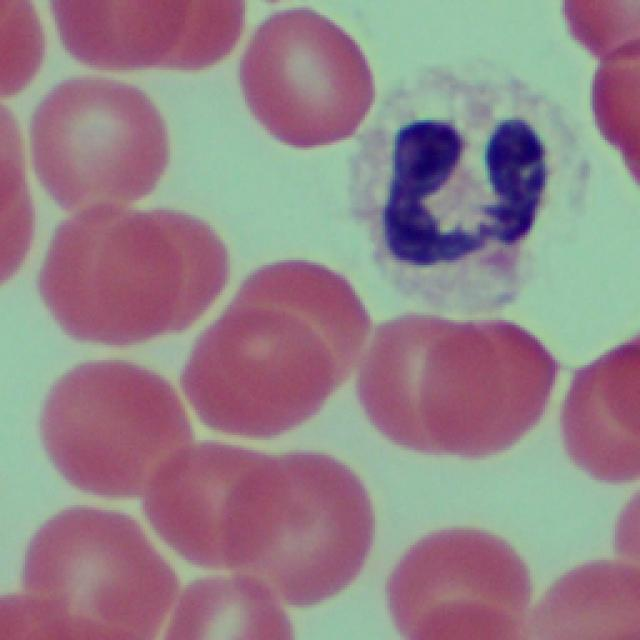RBC: (223, 452, 377, 607), (22, 507, 179, 640), (38, 359, 192, 494), (182, 307, 338, 439), (33, 75, 171, 224), (40, 204, 180, 346), (362, 313, 500, 456), (234, 260, 372, 399), (426, 321, 557, 464), (244, 4, 373, 148), (144, 442, 281, 570), (387, 524, 530, 629), (106, 208, 229, 330), (561, 333, 640, 487), (46, 0, 189, 74), (530, 559, 640, 640), (164, 576, 300, 640), (409, 592, 526, 640), (166, 0, 242, 70), (597, 39, 640, 149), (0, 0, 47, 98), (558, 3, 640, 57), (0, 171, 37, 288), (0, 588, 76, 640), (0, 103, 27, 213)
WBC: (348, 57, 592, 317)
